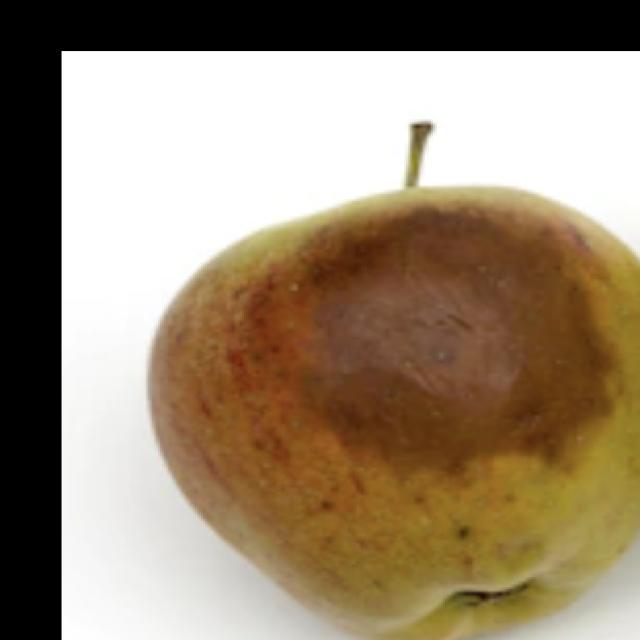Rotten: (145, 178, 640, 640)
